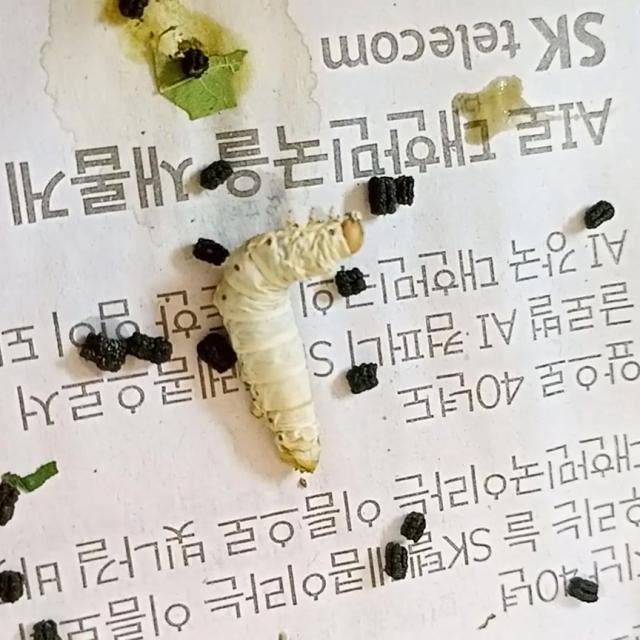Grasserie: (166, 170, 451, 530)
